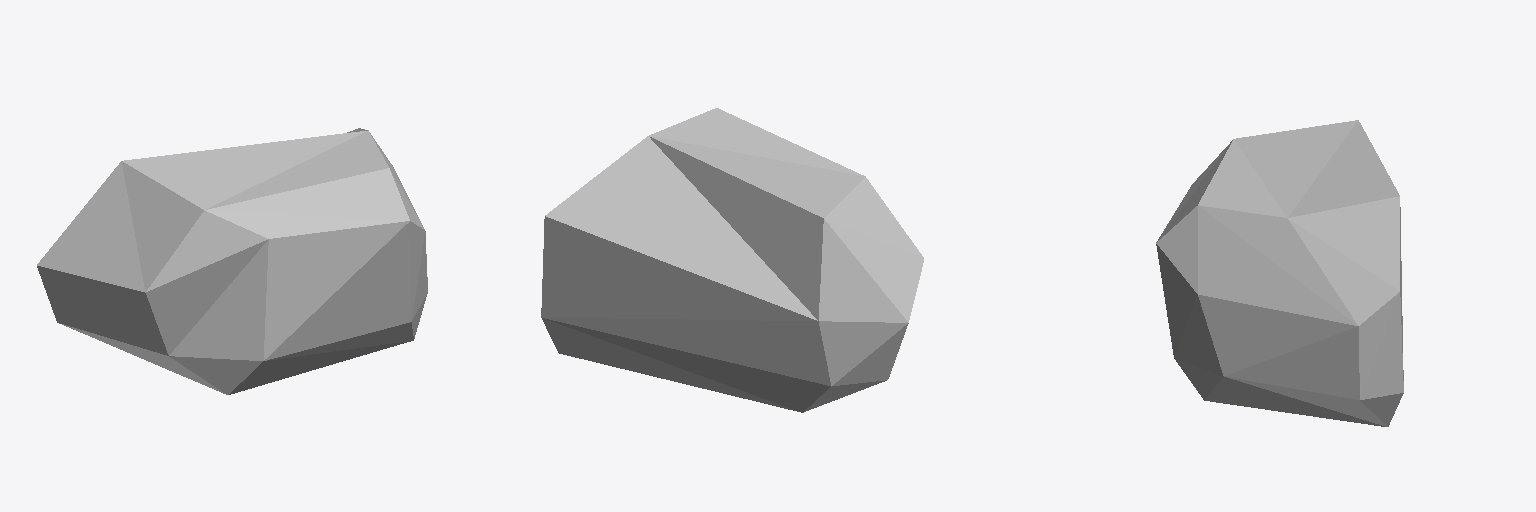
File: RockLM1.obj
3 views of the same model, side by side, from view 1: azimuth 30°, elevation 25°; view 2: azimuth 150°, elevation 25°; view 3: azimuth 270°, elevation 25° (orthographic).
Visible parts, largest first — view 1: Rock1; view 2: Rock1; view 3: Rock1.
Part boxes in pixels (x1,y1,x2,y2): Rock1: (37,128,427,394); Rock1: (541,108,923,412); Rock1: (1156,120,1403,426).
Bounding box in the file's own units: 2 × 1.01 × 1.19.